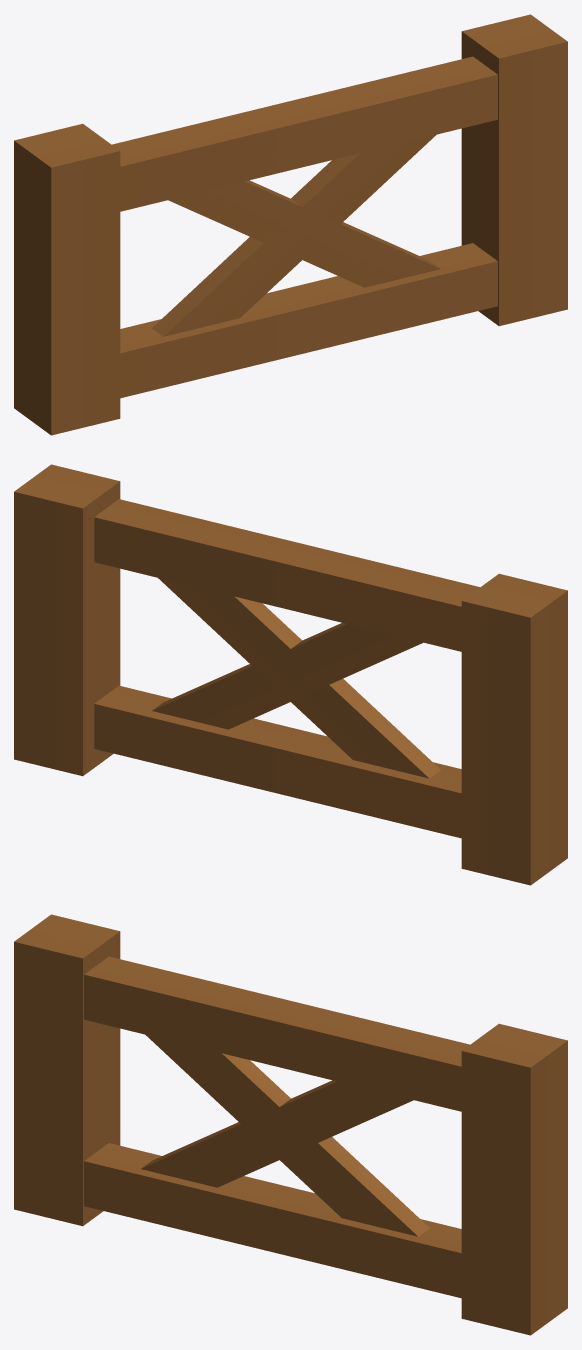
The model's file is Railing_Wood_02.fbx.
3 views of the same model, one above another, from view 1: azimuth 30°, elevation 25°; view 2: azimuth 150°, elevation 25°; view 3: azimuth 330°, elevation 25° (orthographic).
Visible parts, largest first — view 1: Railing_Wood_02.001, Railing_Wood_02.003, Railing_Wood_02, Railing_Wood_02.004; view 2: Railing_Wood_02.001, Railing_Wood_02.003, Railing_Wood_02, Railing_Wood_02.004; view 3: Railing_Wood_02.001, Railing_Wood_02.003, Railing_Wood_02, Railing_Wood_02.004.
Part boxes in pixels (left/top/right/bottom): Railing_Wood_02.001: left=14, top=14, right=567, bottom=435; Railing_Wood_02.003: left=112, top=56, right=497, bottom=211; Railing_Wood_02: left=120, top=243, right=497, bottom=398; Railing_Wood_02.004: left=152, top=134, right=440, bottom=336; Railing_Wood_02.001: left=14, top=464, right=567, bottom=885; Railing_Wood_02.003: left=94, top=499, right=479, bottom=651; Railing_Wood_02: left=94, top=685, right=461, bottom=838; Railing_Wood_02.004: left=152, top=578, right=440, bottom=778; Railing_Wood_02.001: left=14, top=914, right=567, bottom=1335; Railing_Wood_02.003: left=84, top=956, right=469, bottom=1111; Railing_Wood_02: left=84, top=1143, right=461, bottom=1298; Railing_Wood_02.004: left=141, top=1034, right=429, bottom=1236.
Bounding box in the file's own units: 2.4 × 1.19 × 0.3.
